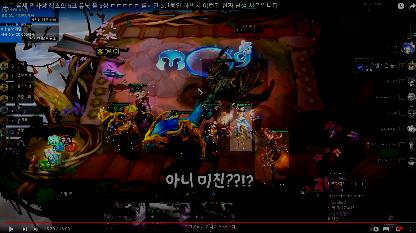3_aoshin: (150, 111, 206, 155)
3_bard: (103, 102, 133, 154)
3_joy: (201, 102, 225, 152)
3_shyvana: (255, 130, 289, 186)
3_soraka: (230, 103, 252, 151)
3_terra: (202, 59, 268, 101)
3_yasuo: (128, 84, 156, 128)
